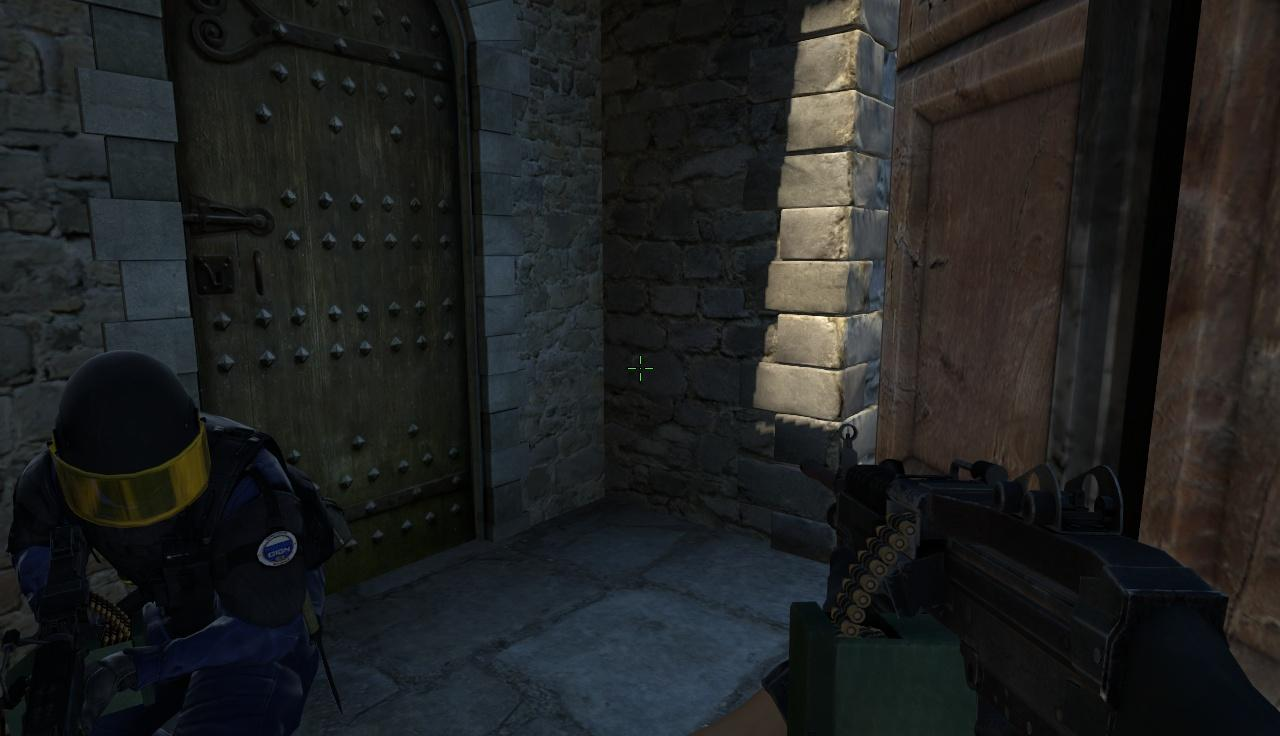ct: (8, 347, 314, 736)
cthead: (52, 352, 200, 525)
rifle: (799, 424, 1280, 732)
